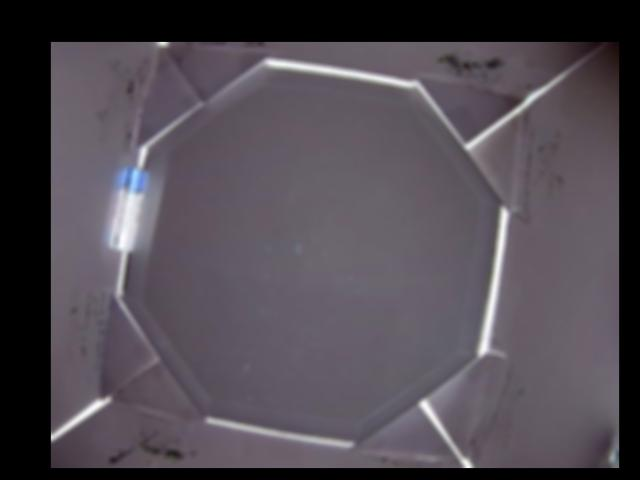Battery: (108, 165, 147, 252)
